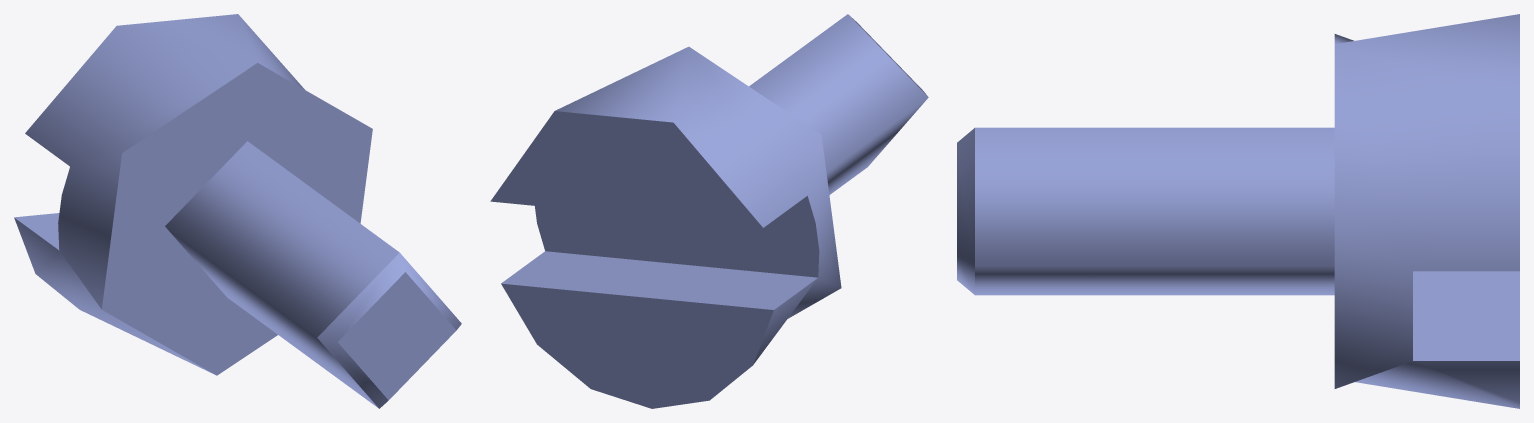
File: Copie de Vis Cliquet^Horloge Comtoise Verge - Sonnerie.obj
3 views of the same model, side by side, from view 1: azimuth 30°, elevation 25°; view 2: azimuth 150°, elevation 25°; view 3: azimuth 270°, elevation 25° (orthographic). The views are drawn at different scales.
Visible parts, largest first — view 1: Face_2, Face_4, Face_1, Face_5, Face_3, Face_8; view 2: Face_4, Face_6, Face_7, Face_1, Face_10, Face_8; view 3: Face_1, Face_4, Face_8, Face_3.
Part boxes in pixels (left/top/right/bottom): Face_2: left=102, top=63, right=372, bottom=375; Face_4: left=14, top=14, right=304, bottom=373; Face_1: left=165, top=141, right=399, bottom=408; Face_5: left=338, top=272, right=456, bottom=400; Face_3: left=317, top=252, right=461, bottom=408; Face_8: left=14, top=213, right=59, bottom=249; Face_4: left=555, top=46, right=841, bottom=364; Face_6: left=501, top=283, right=773, bottom=408; Face_7: left=490, top=111, right=762, bottom=227; Face_1: left=749, top=14, right=928, bottom=194; Face_10: left=535, top=196, right=819, bottom=277; Face_8: left=501, top=251, right=817, bottom=309; Face_1: left=975, top=127, right=1334, bottom=295; Face_4: left=1334, top=14, right=1519, bottom=408; Face_8: left=1413, top=271, right=1519, bottom=360; Face_3: left=957, top=128, right=974, bottom=294.
Bounding box in the file's own units: 0.00559 × 0.00555 × 0.0079.
